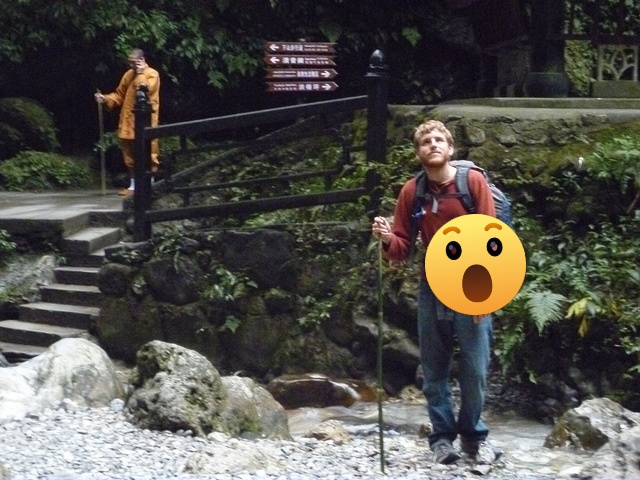wow: (425, 214, 526, 315)
